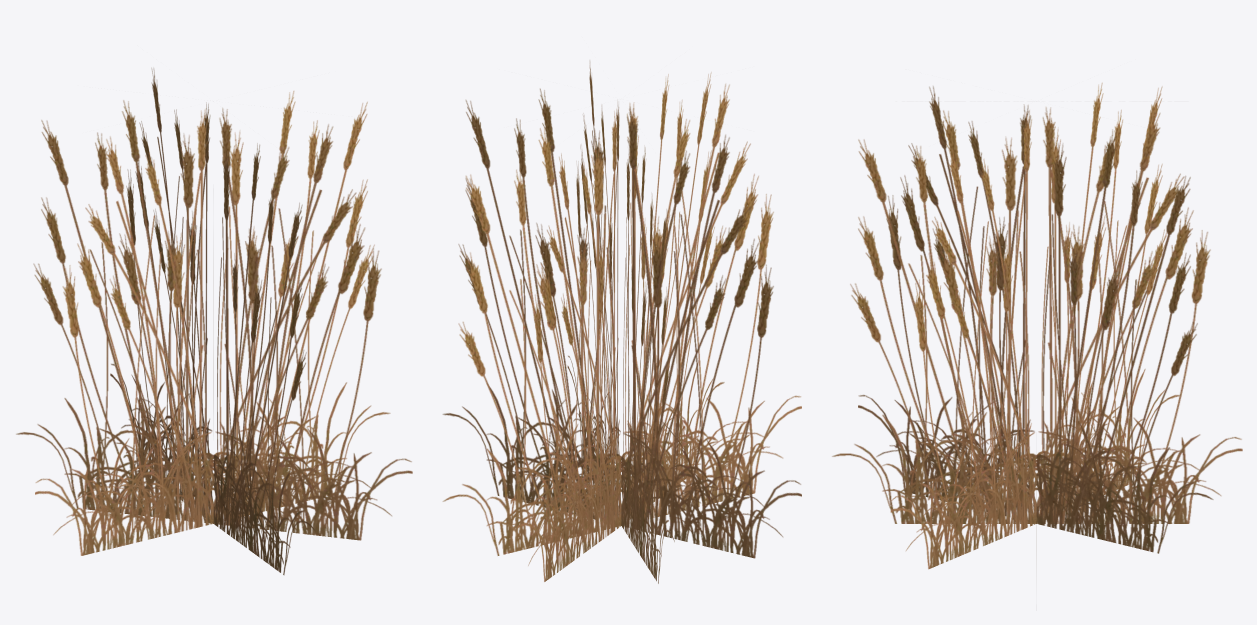
3 renders of one model, left to right at view 1: azimuth 30°, elevation 25°; view 2: azimuth 150°, elevation 25°; view 3: azimuth 270°, elevation 25°, orthographic.
Parts seen in each view (by area): view 1: g; view 2: g; view 3: g.
Part boxes in pixels (x1=…): g: x1=16, y1=68, x2=412, y2=575; g: x1=442, y1=62, x2=801, y2=583; g: x1=832, y1=83, x2=1242, y2=569.
Bounding box in the file's own units: 1.77 × 2 × 1.77.
1 material, 1 textured.
